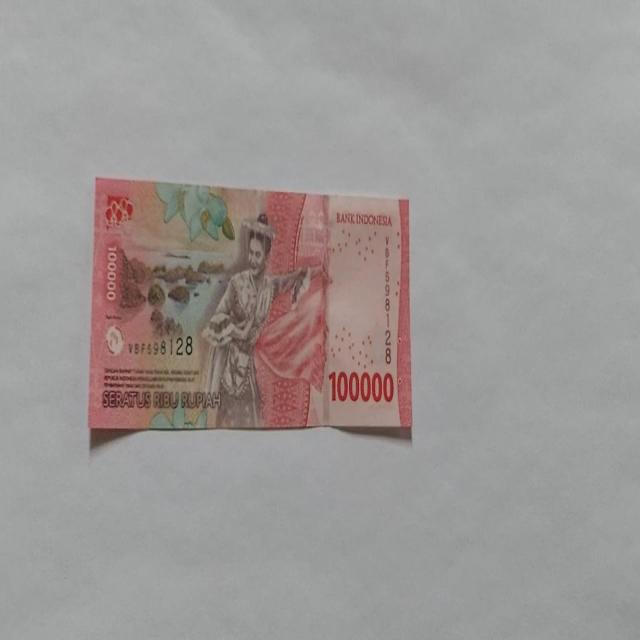Kertas: (88, 175, 412, 435), (327, 368, 395, 404)
